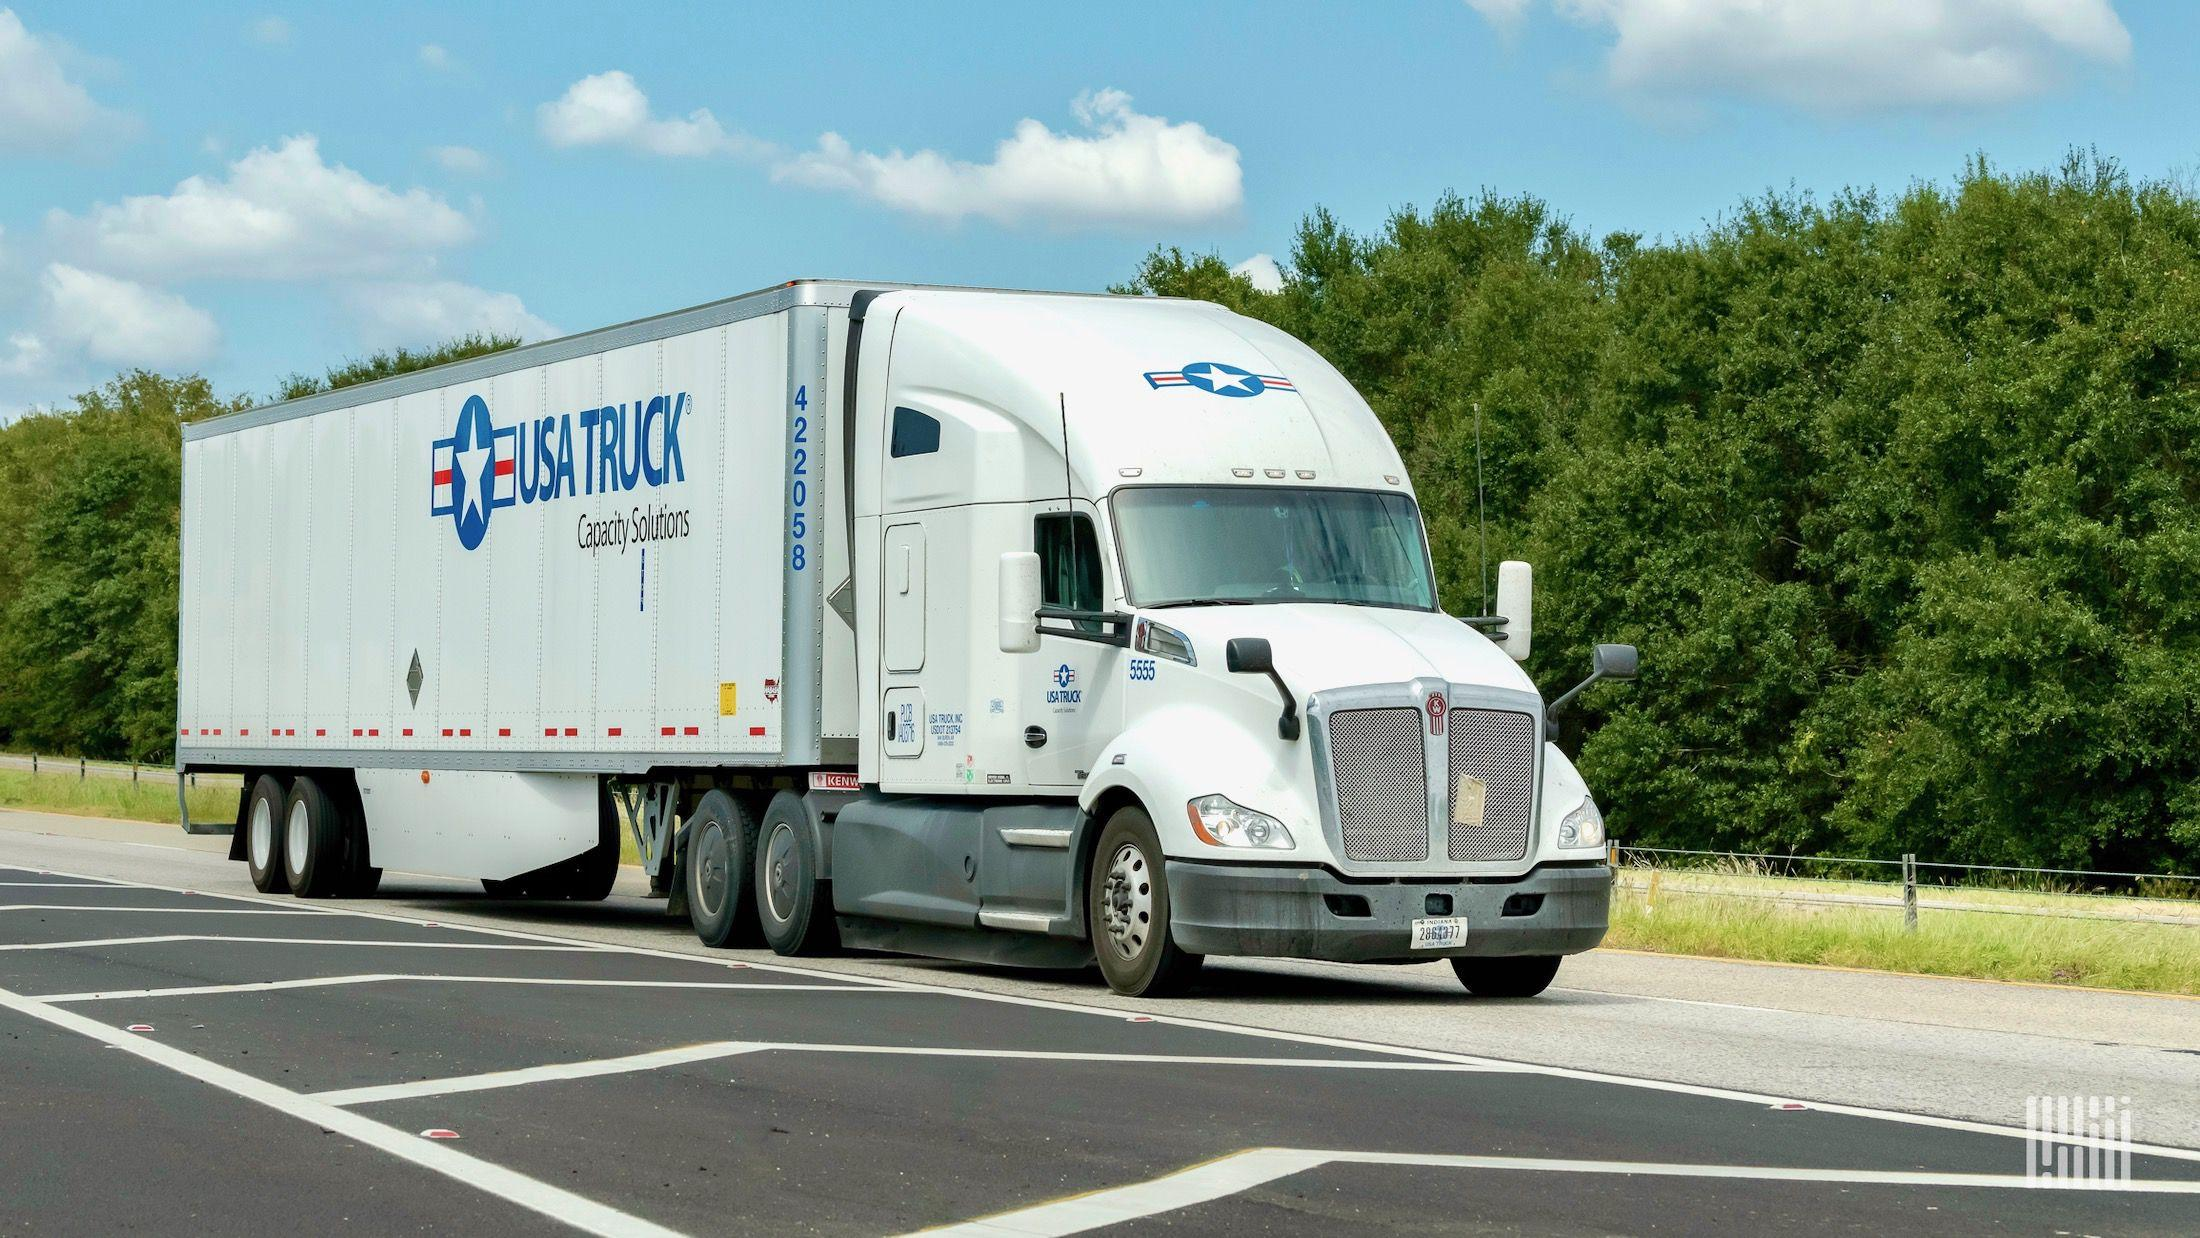truck: (174, 277, 1636, 1004)
